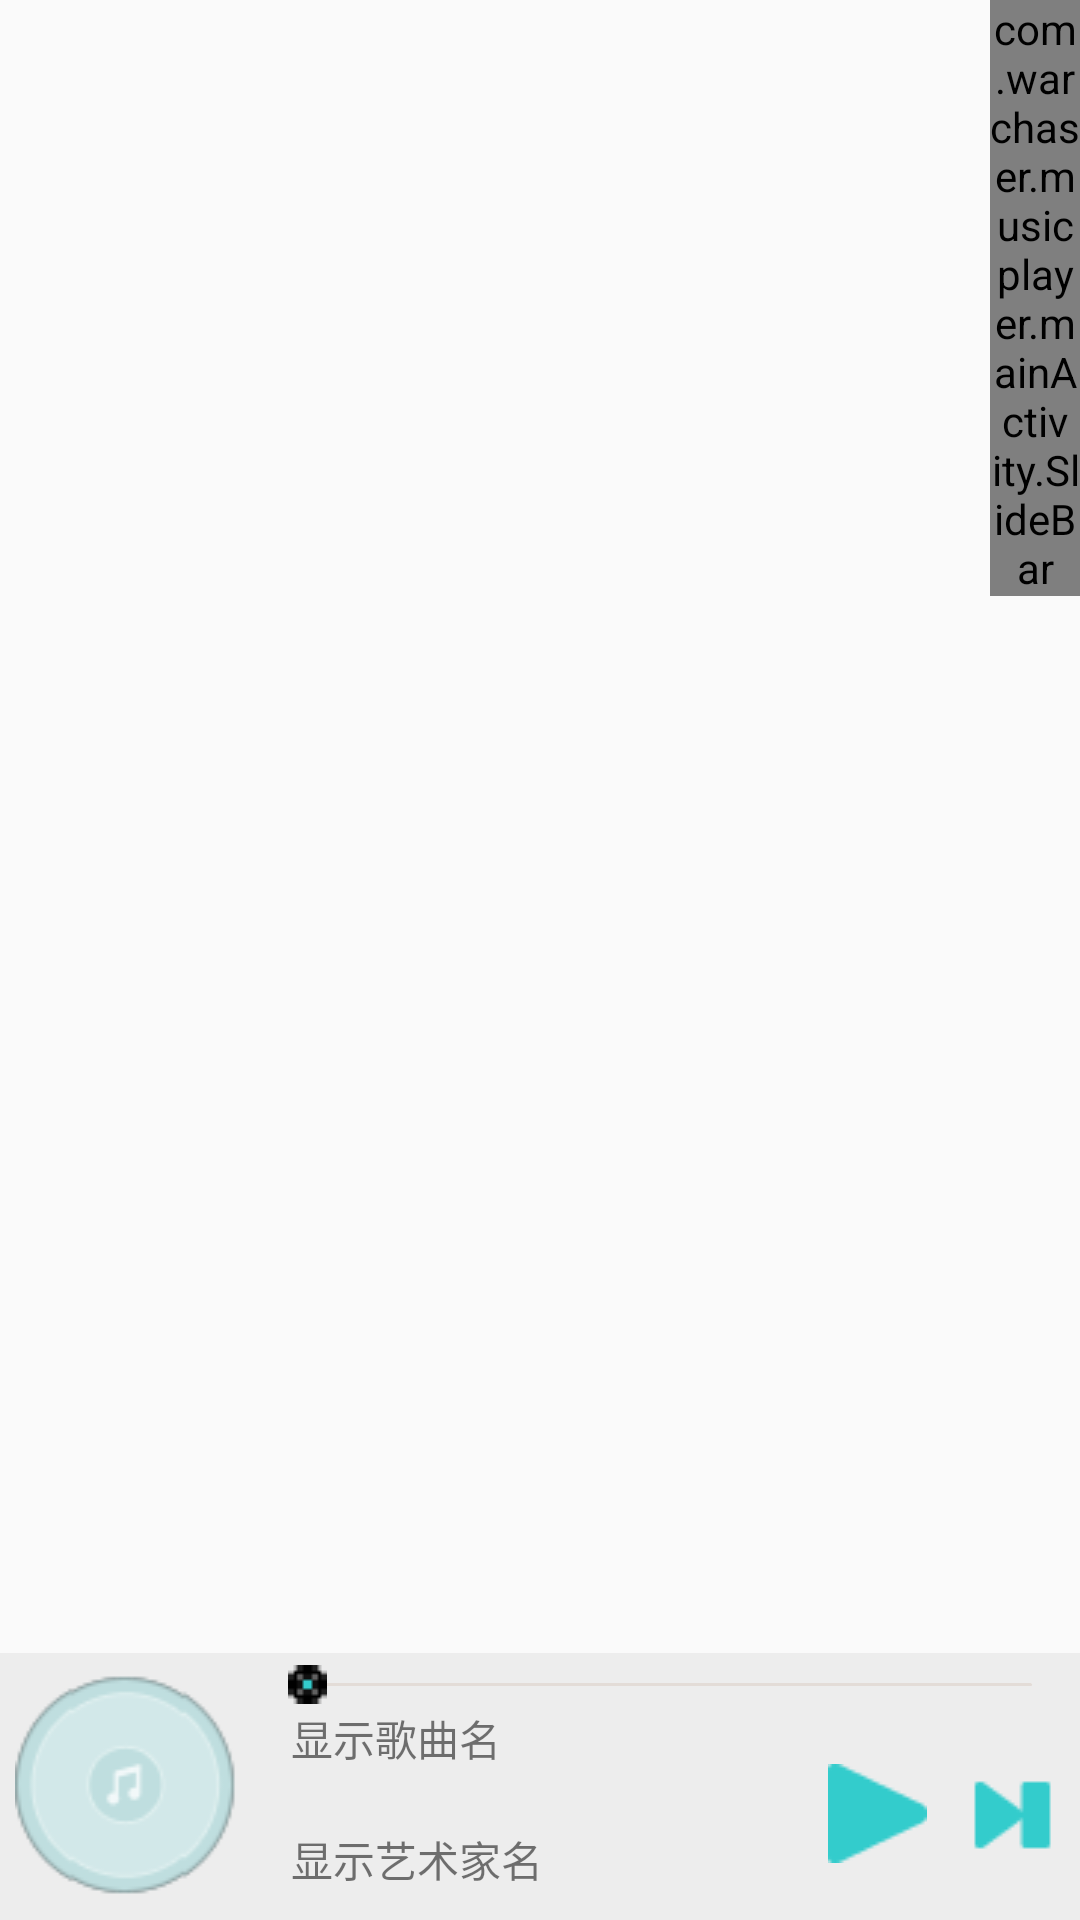

Screen size 1080w x 1920h. Icon name, then its center in pixels as point (x, y):
next: point (1012, 1815)
